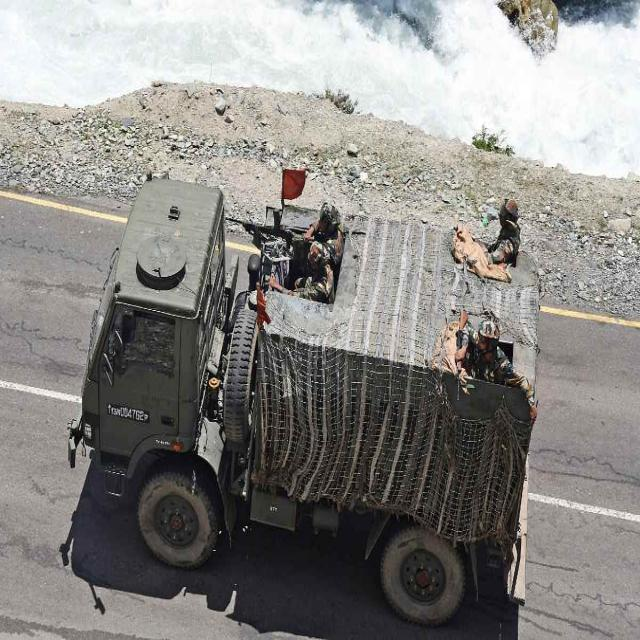truck: (69, 169, 539, 623)
